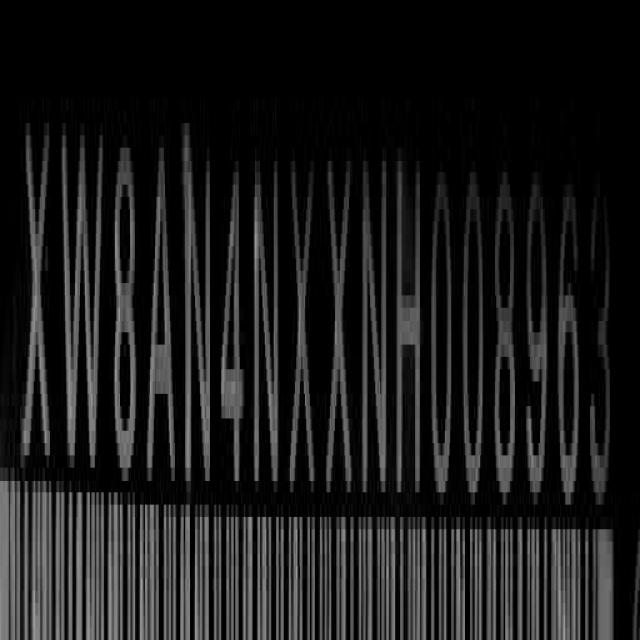0: (458, 160, 484, 511), (431, 155, 455, 510)
3: (587, 188, 614, 514)
4: (220, 147, 247, 500)
6: (559, 180, 584, 510)
8: (114, 129, 140, 492), (494, 170, 520, 508)
9: (526, 176, 551, 508)
A: (146, 122, 176, 495)
H: (397, 146, 425, 508)
N: (183, 122, 214, 498), (360, 137, 390, 504), (254, 146, 281, 500)
W: (60, 115, 104, 489)
X: (20, 108, 50, 484), (287, 148, 317, 510), (326, 142, 354, 508)
